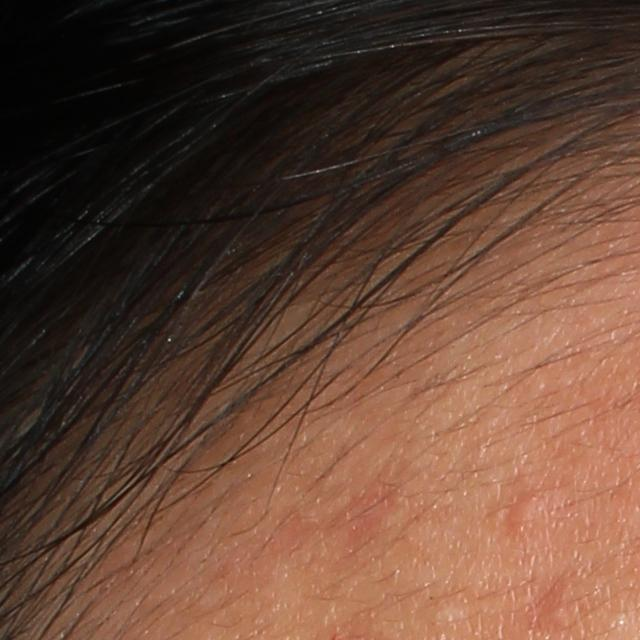comedo: (535, 582, 578, 630), (431, 601, 470, 626)
